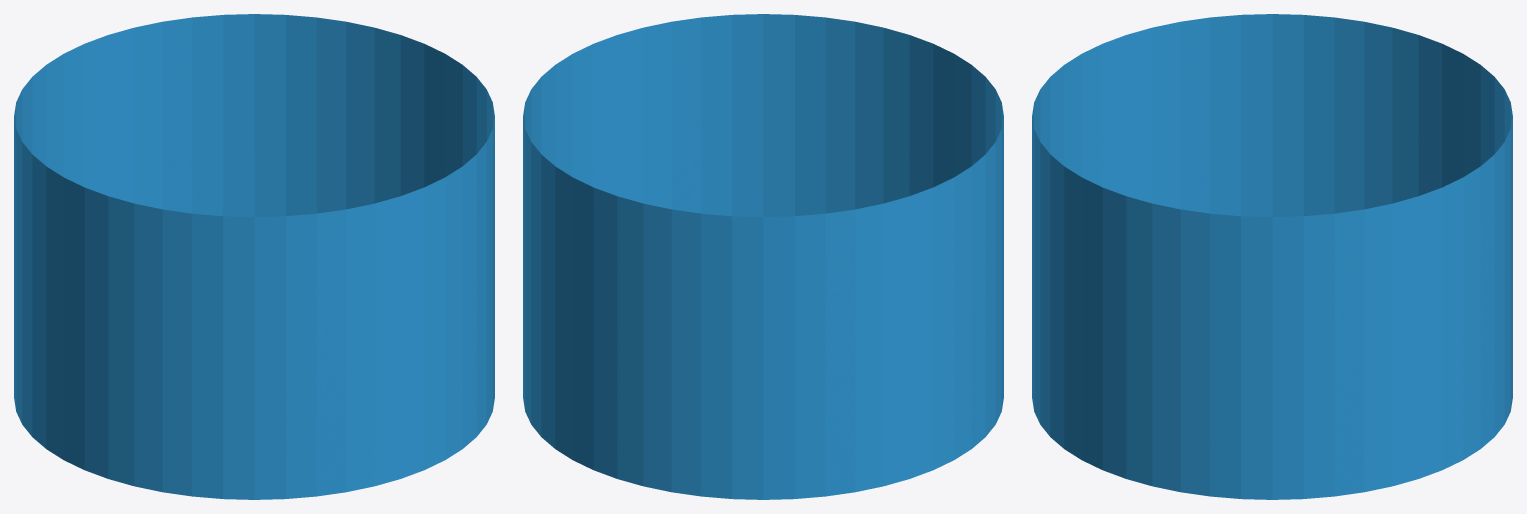
Rendered from portal-pad-2.fbx.
The picture shows the model from 3 angles, left to right: view 1: azimuth 30°, elevation 25°; view 2: azimuth 150°, elevation 25°; view 3: azimuth 270°, elevation 25°; orthographic projection.
Parts seen in each view (by area): view 1: Cylinder; view 2: Cylinder; view 3: Cylinder.
Part boxes in pixels (x1=…): Cylinder: x1=14, y1=14, x2=494, y2=499; Cylinder: x1=523, y1=14, x2=1003, y2=499; Cylinder: x1=1032, y1=14, x2=1512, y2=499.
Size of the model in its own units: 200 by 130 by 200.
Materials: 1 (1 with a texture image).
